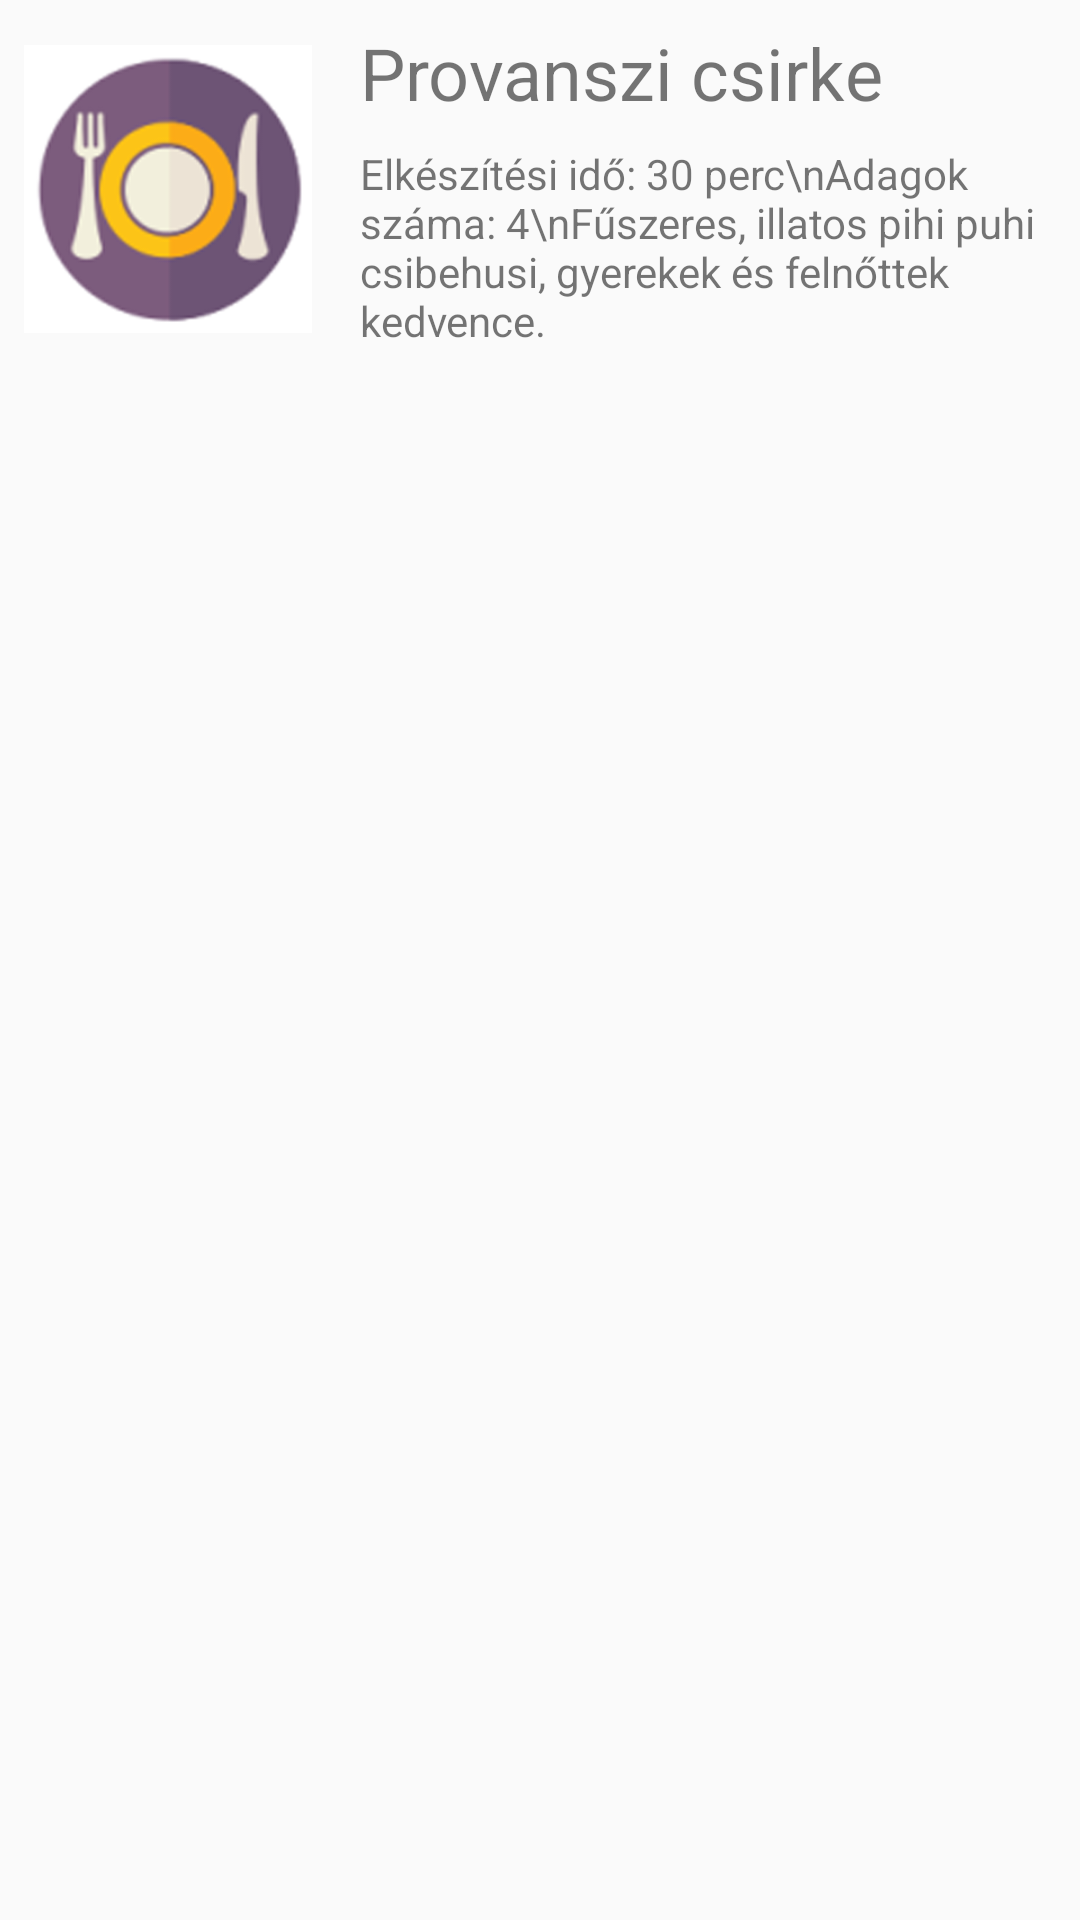

Locate icon controls on the screen. Image size 1080x1920, boxes as rect(x1, y1, x2, y2).
food: rect(38, 58, 302, 322)
